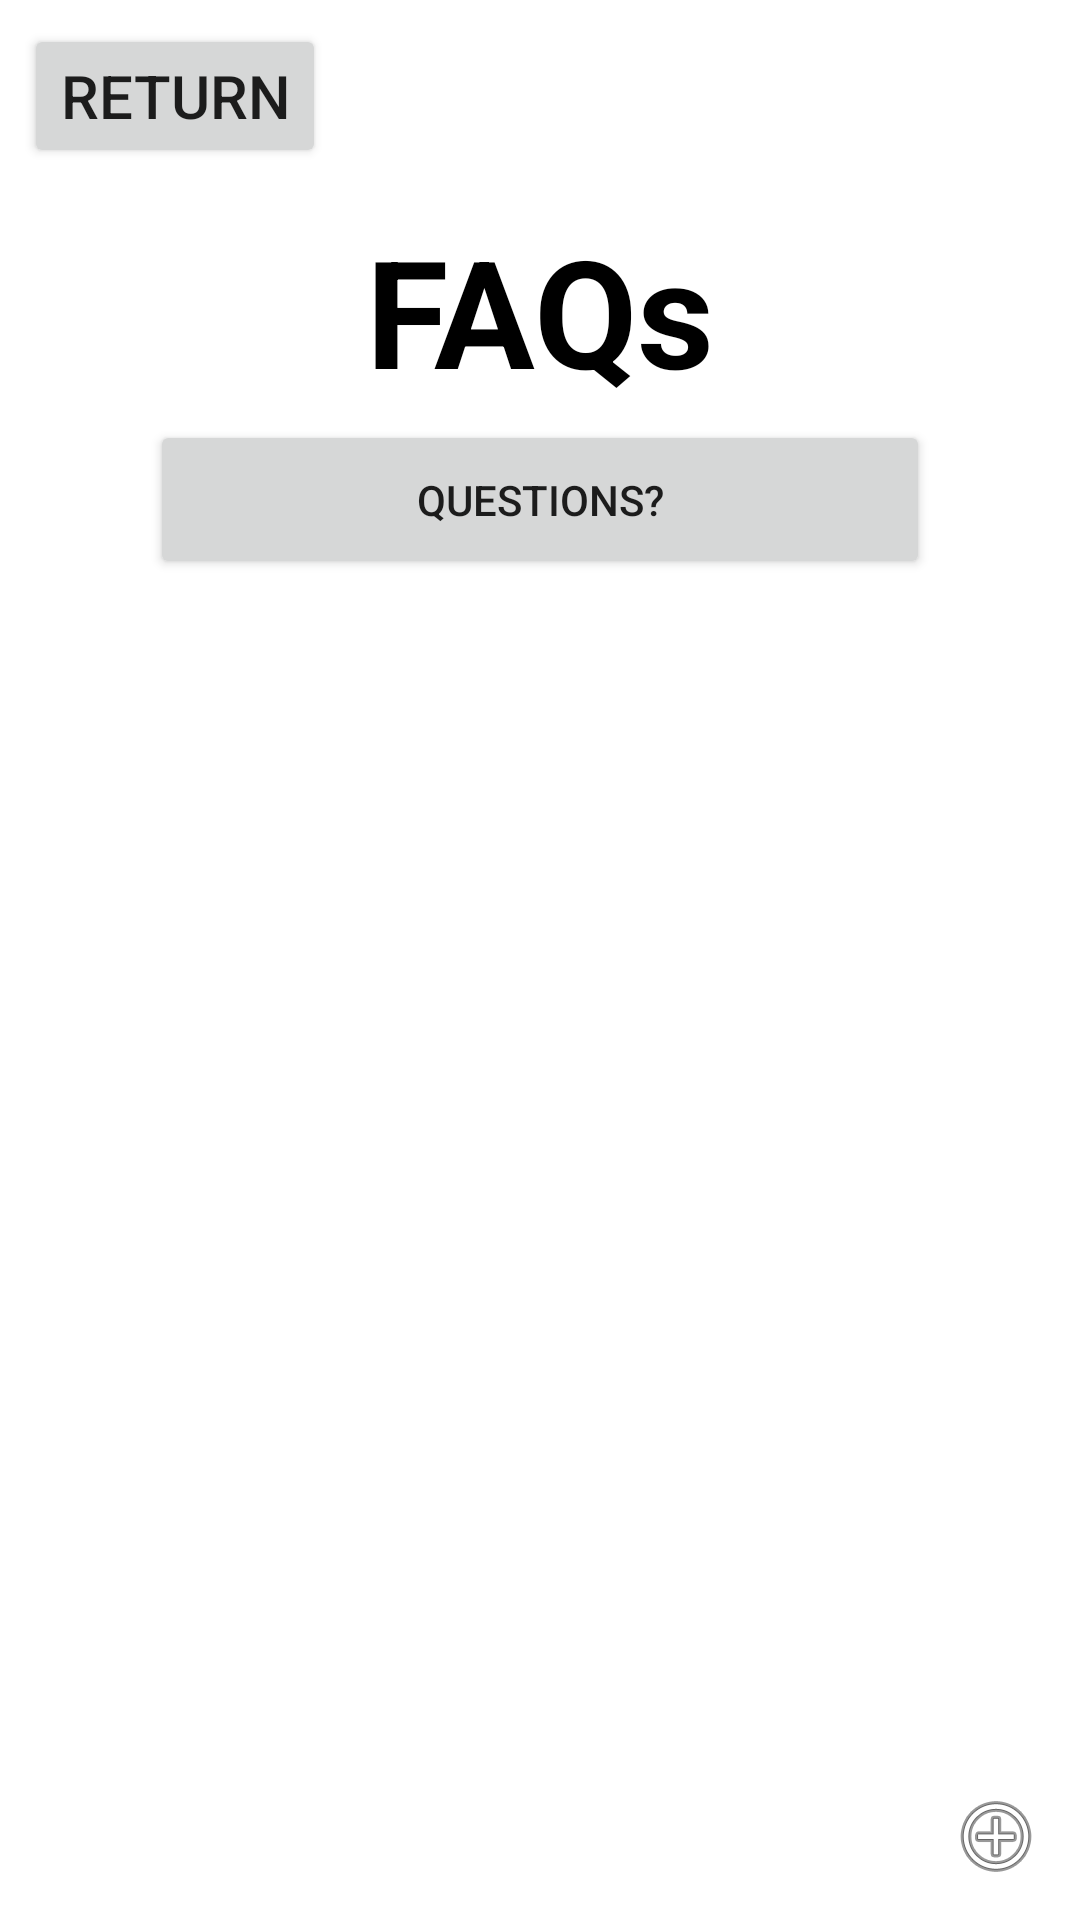

Where icons sit on this 1080 x 1920 app screen, as box(x1, y1, x2, y2):
add: box(960, 1801, 1032, 1872)
